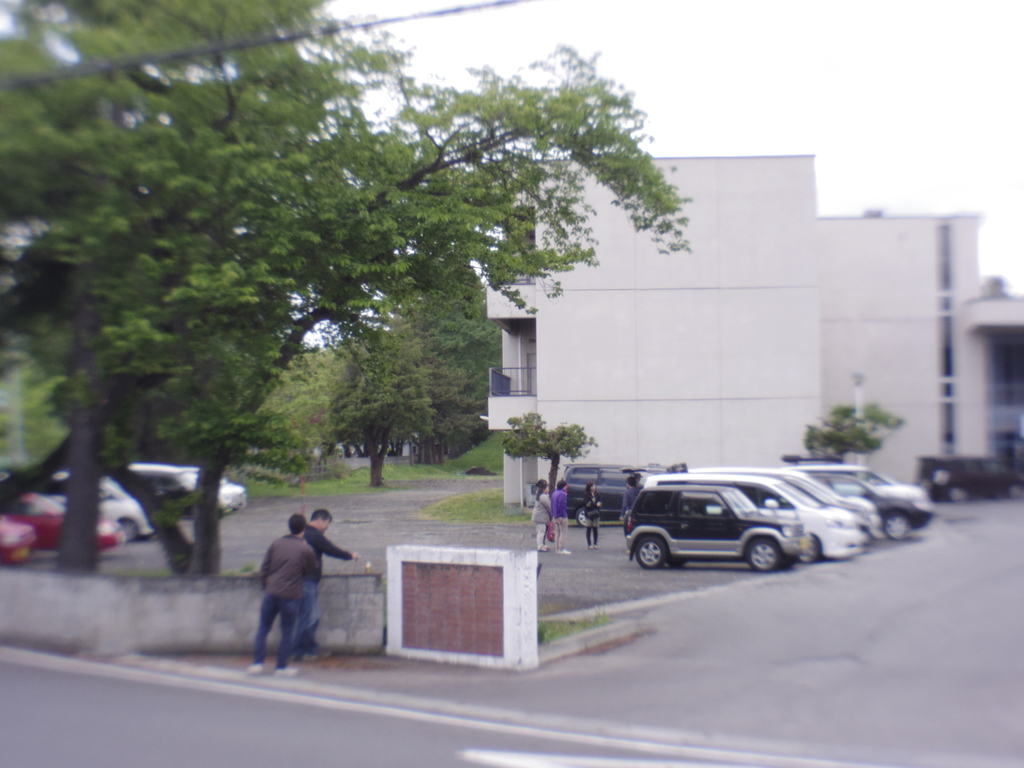mobil: (628, 487, 813, 576)
